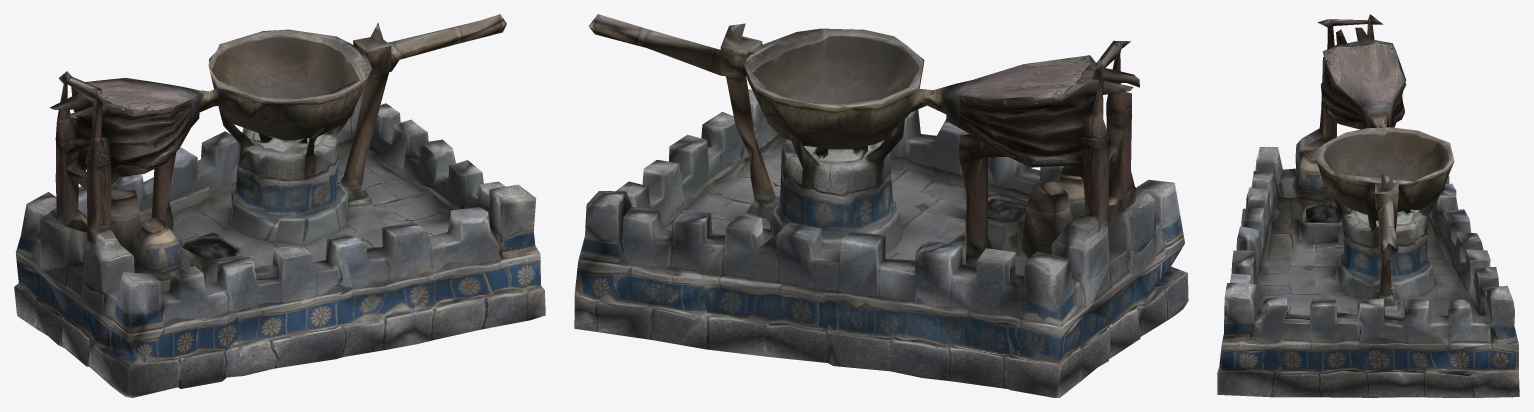
Rendered from def_firepot.glb.
3 renders of one model, left to right at view 1: azimuth 30°, elevation 25°; view 2: azimuth 150°, elevation 25°; view 3: azimuth 270°, elevation 25°, orthographic. The views are drawn at different scales.
Parts seen in each view (by area): view 1: tripo_node_dbb52438-6759-4e95-a064-54dd0f3581da; view 2: tripo_node_dbb52438-6759-4e95-a064-54dd0f3581da; view 3: tripo_node_dbb52438-6759-4e95-a064-54dd0f3581da.
Part boxes in pixels (x1,y1,x2,y2): tripo_node_dbb52438-6759-4e95-a064-54dd0f3581da: (14,14,545,397); tripo_node_dbb52438-6759-4e95-a064-54dd0f3581da: (574,14,1188,397); tripo_node_dbb52438-6759-4e95-a064-54dd0f3581da: (1217,14,1519,397).
Size of the model in its own units: 0.9826 by 0.5495 by 0.661.
1 material, 1 textured.
